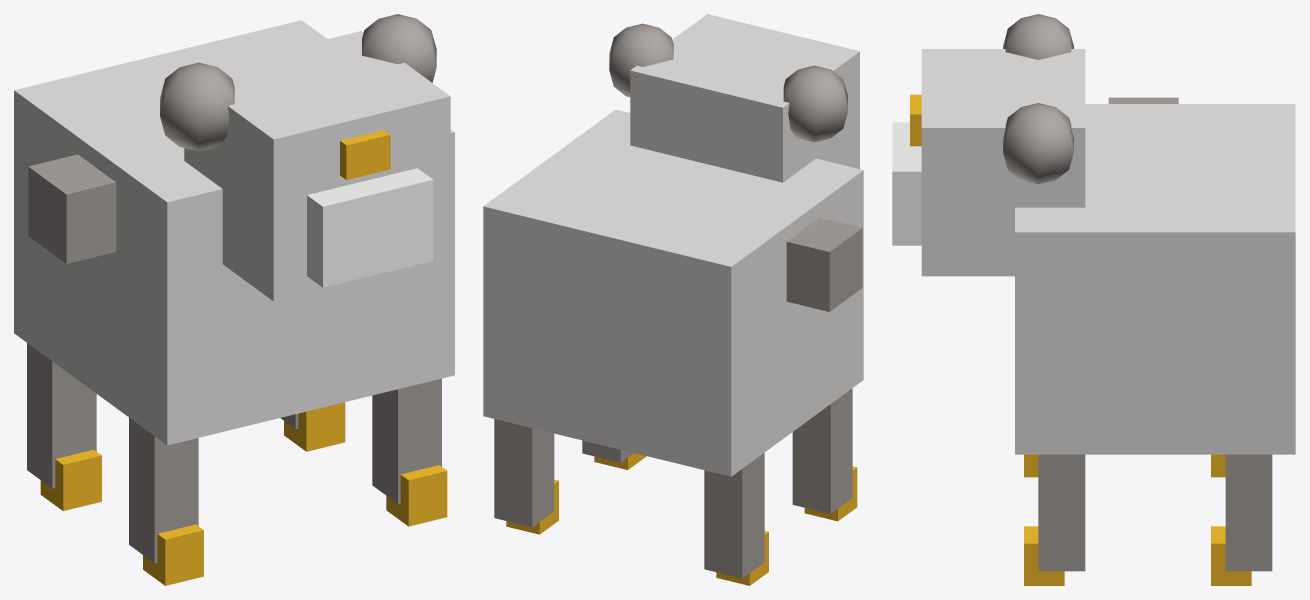
File: RescueBearB.glb
3 renders of one model, left to right at view 1: azimuth 30°, elevation 25°; view 2: azimuth 150°, elevation 25°; view 3: azimuth 270°, elevation 25°, orthographic. The views are drawn at different scales.
Visible parts, largest first — view 1: RescueBearBody; view 2: RescueBearBody; view 3: RescueBearBody.
Part boxes in pixels (<box>): RescueBearBody: <box>14,14,454,585</box>; RescueBearBody: <box>483,14,863,585</box>; RescueBearBody: <box>892,14,1295,585</box>.
Bounding box in the file's own units: 0.61 × 0.87 × 0.69.
